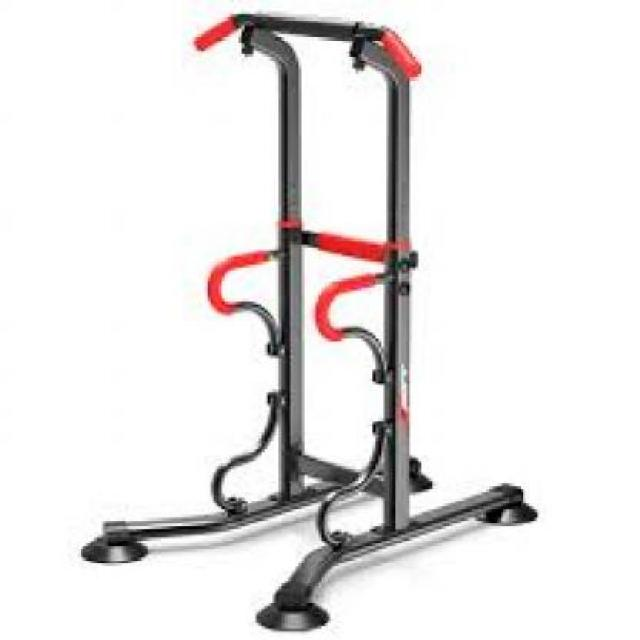chinning dipping: (81, 11, 538, 631)
